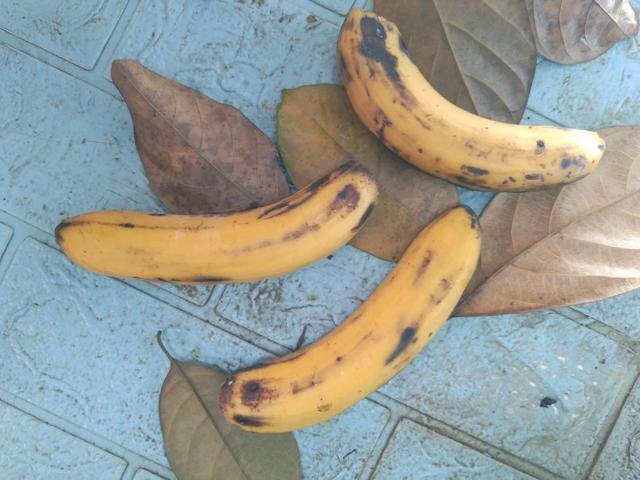overripe: (333, 4, 631, 206), (27, 152, 378, 296)
ripe: (210, 198, 490, 447)
